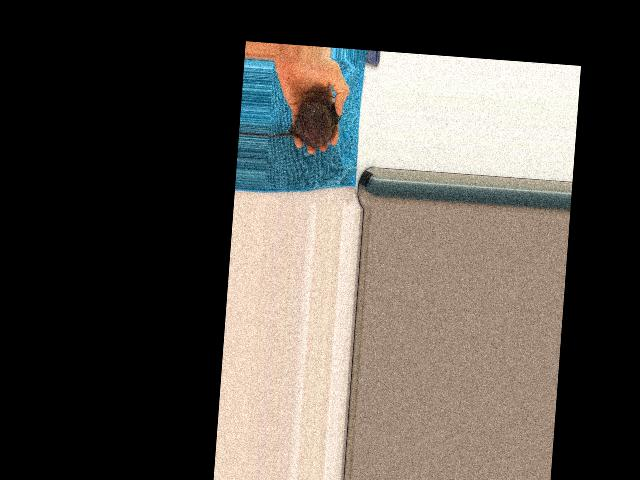beet: (266, 88, 343, 149)
